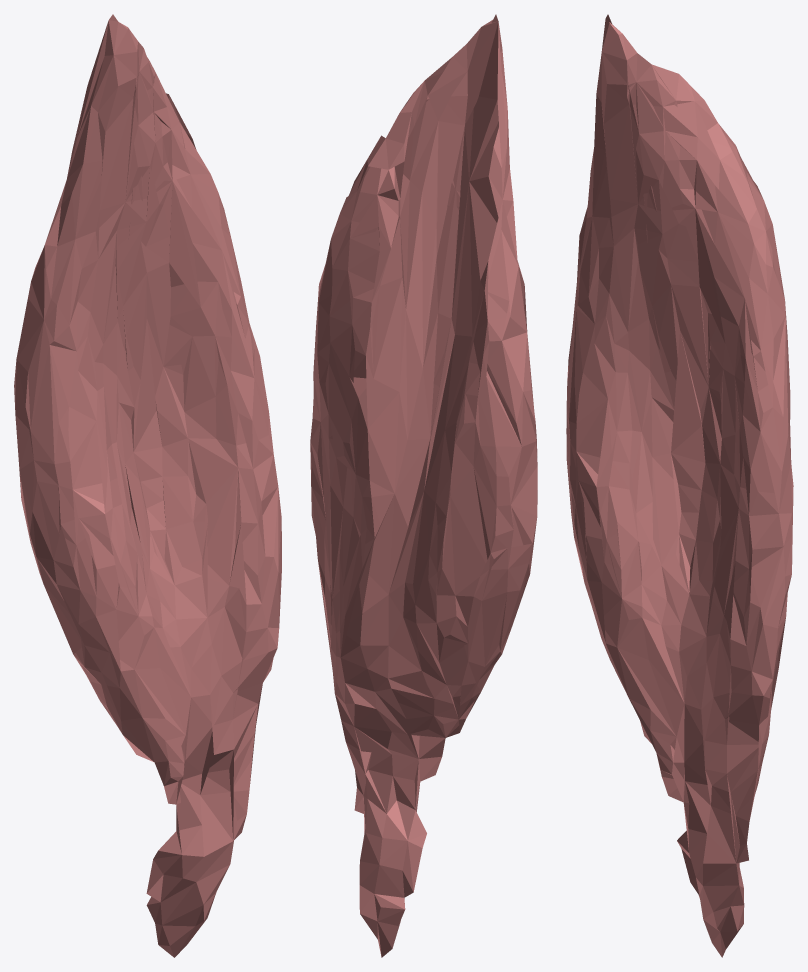
Rendered from Brachialis_muscle.l.glb.
The picture shows the model from 3 angles, left to right: view 1: azimuth 30°, elevation 25°; view 2: azimuth 150°, elevation 25°; view 3: azimuth 330°, elevation 25°; orthographic projection. The views are drawn at different scales.
Parts seen in each view (by area): view 1: Brachialis_muscle.l; view 2: Brachialis_muscle.l; view 3: Brachialis_muscle.l.
Boxes of the visible parts, bbox=[...] form: Brachialis_muscle.l: bbox=[14, 14, 281, 957]; Brachialis_muscle.l: bbox=[310, 14, 537, 957]; Brachialis_muscle.l: bbox=[566, 14, 793, 957].
Size of the model in its own units: 0.0594 by 0.2319 by 0.0269.
